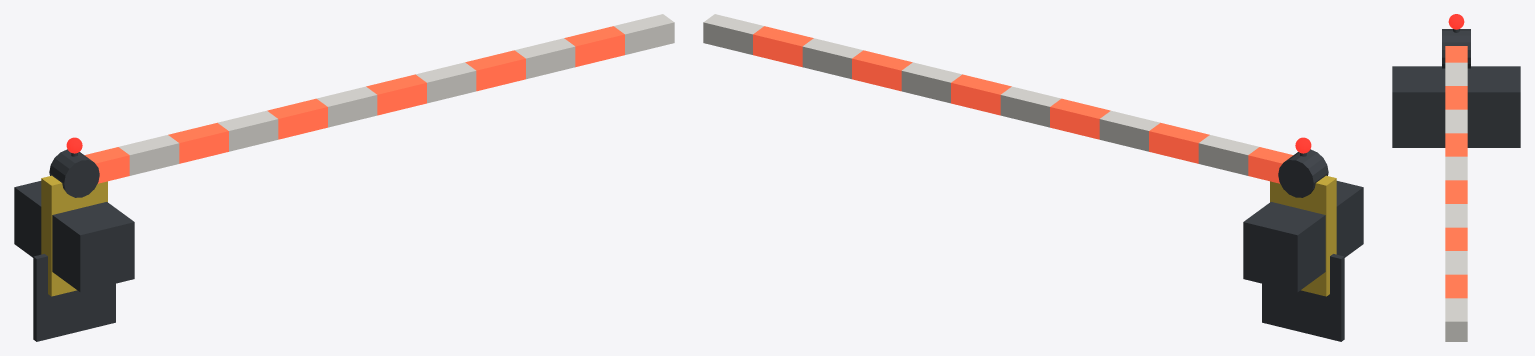
File: service-gate.glb
The picture shows the model from 3 angles, left to right: view 1: azimuth 30°, elevation 25°; view 2: azimuth 150°, elevation 25°; view 3: azimuth 270°, elevation 25°; orthographic projection. The views are drawn at different scales.
Visible parts, largest first — view 1: housing, baseplate, hband, pivot, seg.001, seg.003, seg.004, seg.008, seg.002, seg.005, seg.006, seg.010 (+5 smaller); view 2: housing, baseplate, hband, pivot, seg.001, seg.003, seg.004, seg.008, seg.002, seg.005, seg.006, seg.010 (+5 smaller); view 3: housing, seg.011, pivot, seg.003, seg.005, seg.010, seg.001, seg.002, seg.004, seg.006, seg.007, seg.008 (+3 smaller).
Part boxes in pixels (x1,y1,x2,y2): housing: (14, 181, 134, 292); baseplate: (33, 254, 115, 341); hband: (41, 175, 107, 244); pivot: (49, 149, 99, 197); seg.001: (119, 135, 179, 175); seg.003: (218, 110, 278, 151); seg.004: (267, 98, 327, 139); seg.008: (465, 50, 525, 91); seg.002: (168, 122, 228, 163); seg.005: (316, 86, 377, 127); seg.006: (366, 74, 426, 115); seg.010: (564, 26, 624, 67); housing: (1243, 181, 1363, 292); baseplate: (1262, 254, 1344, 341); hband: (1270, 175, 1336, 244); pivot: (1278, 149, 1328, 197); seg.001: (1198, 135, 1258, 175); seg.003: (1099, 110, 1159, 151); seg.004: (1050, 98, 1110, 139); seg.008: (852, 50, 912, 91); seg.002: (1149, 122, 1209, 163); seg.005: (1000, 86, 1061, 127); seg.006: (951, 74, 1011, 115); seg.010: (753, 26, 813, 67); housing: (1392, 66, 1520, 147); seg.011: (1445, 298, 1467, 341); pivot: (1442, 29, 1470, 68); seg.003: (1445, 109, 1467, 133); seg.005: (1445, 156, 1467, 180); seg.010: (1445, 274, 1467, 298); seg.001: (1445, 62, 1467, 85); seg.002: (1445, 86, 1467, 109); seg.004: (1445, 133, 1467, 156); seg.006: (1445, 180, 1467, 203); seg.007: (1445, 204, 1467, 227); seg.008: (1445, 227, 1467, 250).
Bounding box in the file's own units: 6.4 × 1.86 × 1.15.
